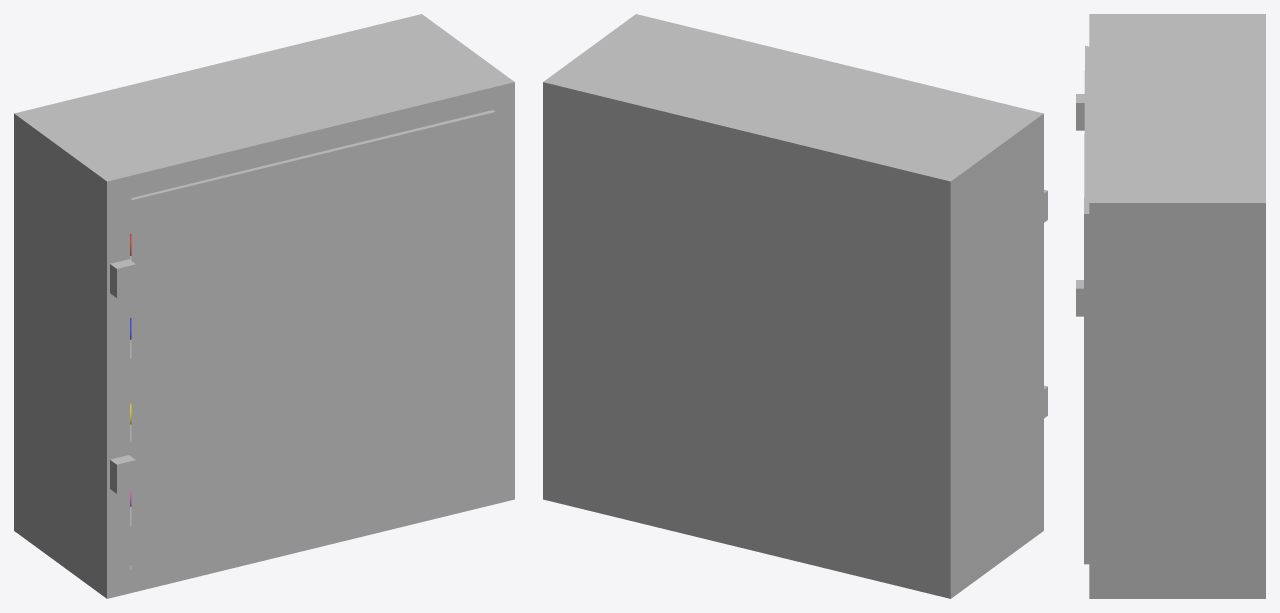
Rendered from Security Box1.fbx.
3 views of the same model, side by side, from view 1: azimuth 30°, elevation 25°; view 2: azimuth 150°, elevation 25°; view 3: azimuth 270°, elevation 25° (orthographic). The views are drawn at different scales.
Parts seen in each view (by area): view 1: Door, Box; view 2: Box; view 3: Box, Door.
Boxes of the visible parts, x1,y1,x2,y2 form: Door: [131, 110, 495, 569]; Box: [14, 14, 514, 598]; Box: [543, 14, 1047, 598]; Box: [1076, 14, 1265, 598]; Door: [1084, 45, 1089, 564].
Bounding box in the file's own units: 246 × 240 × 104.
Materials: 4 (2 with a texture image).
